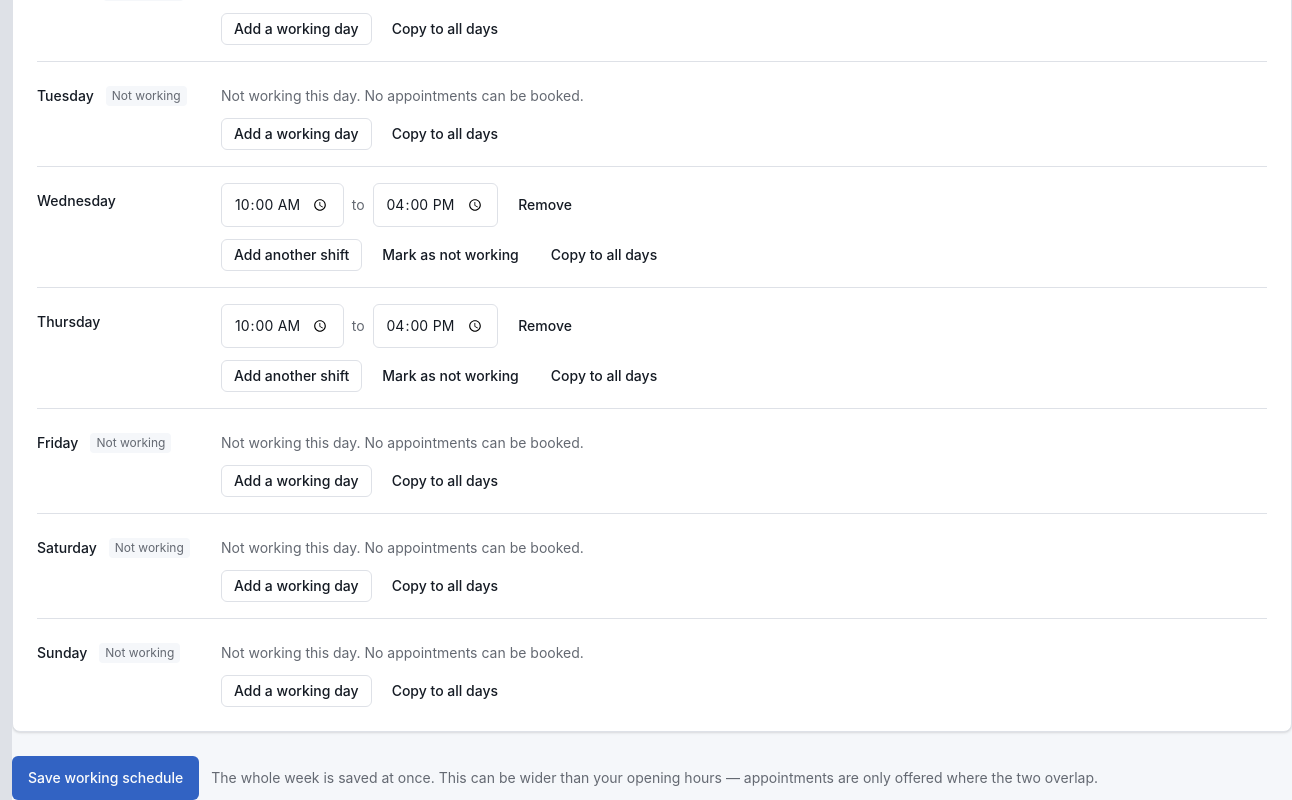
Test: ScheduleSection, refused › shows the server sentence when the refusal names no field
(page scrolled)
Click the button "Save working schedule". click: (106, 778)
box: [12,756,199,799]
(page scrolled)
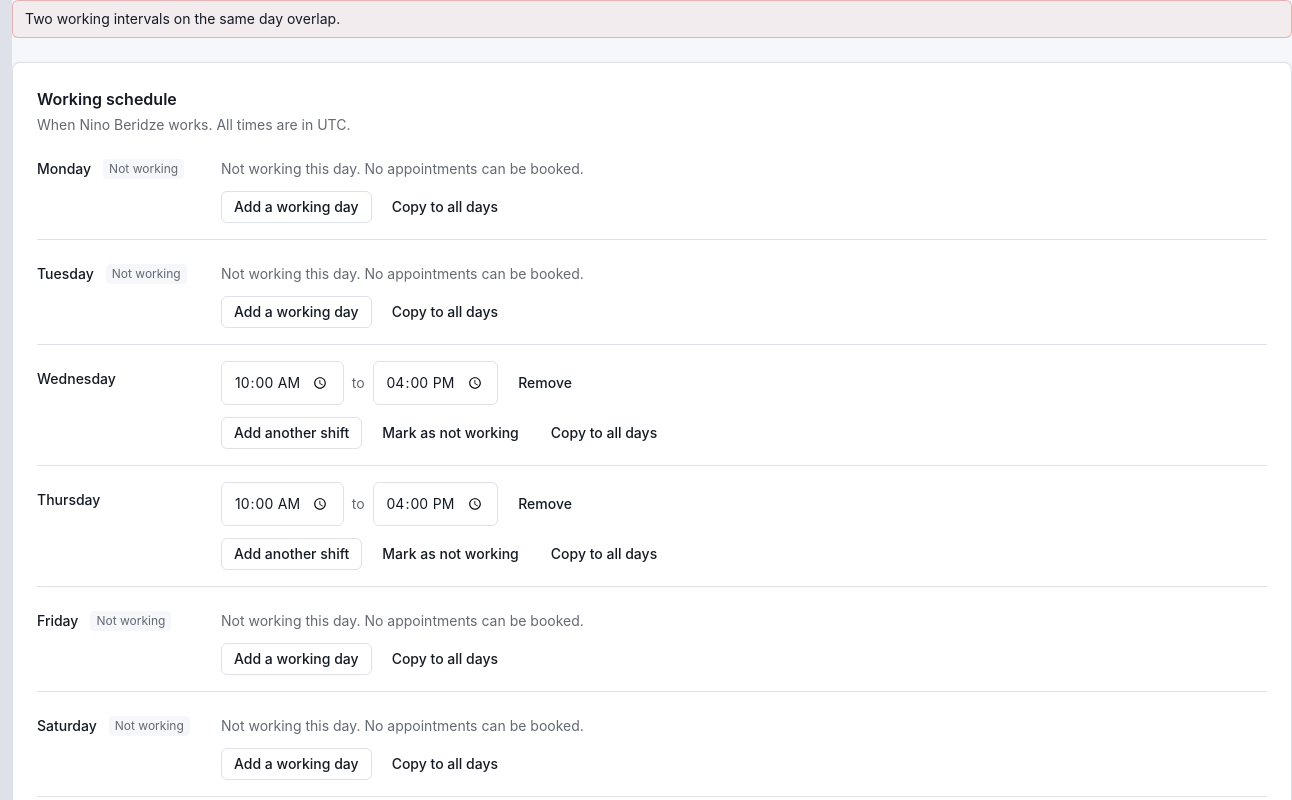
Now the text "Two working intervals on the same day overlap." is shown, box [25,10,340,27]
